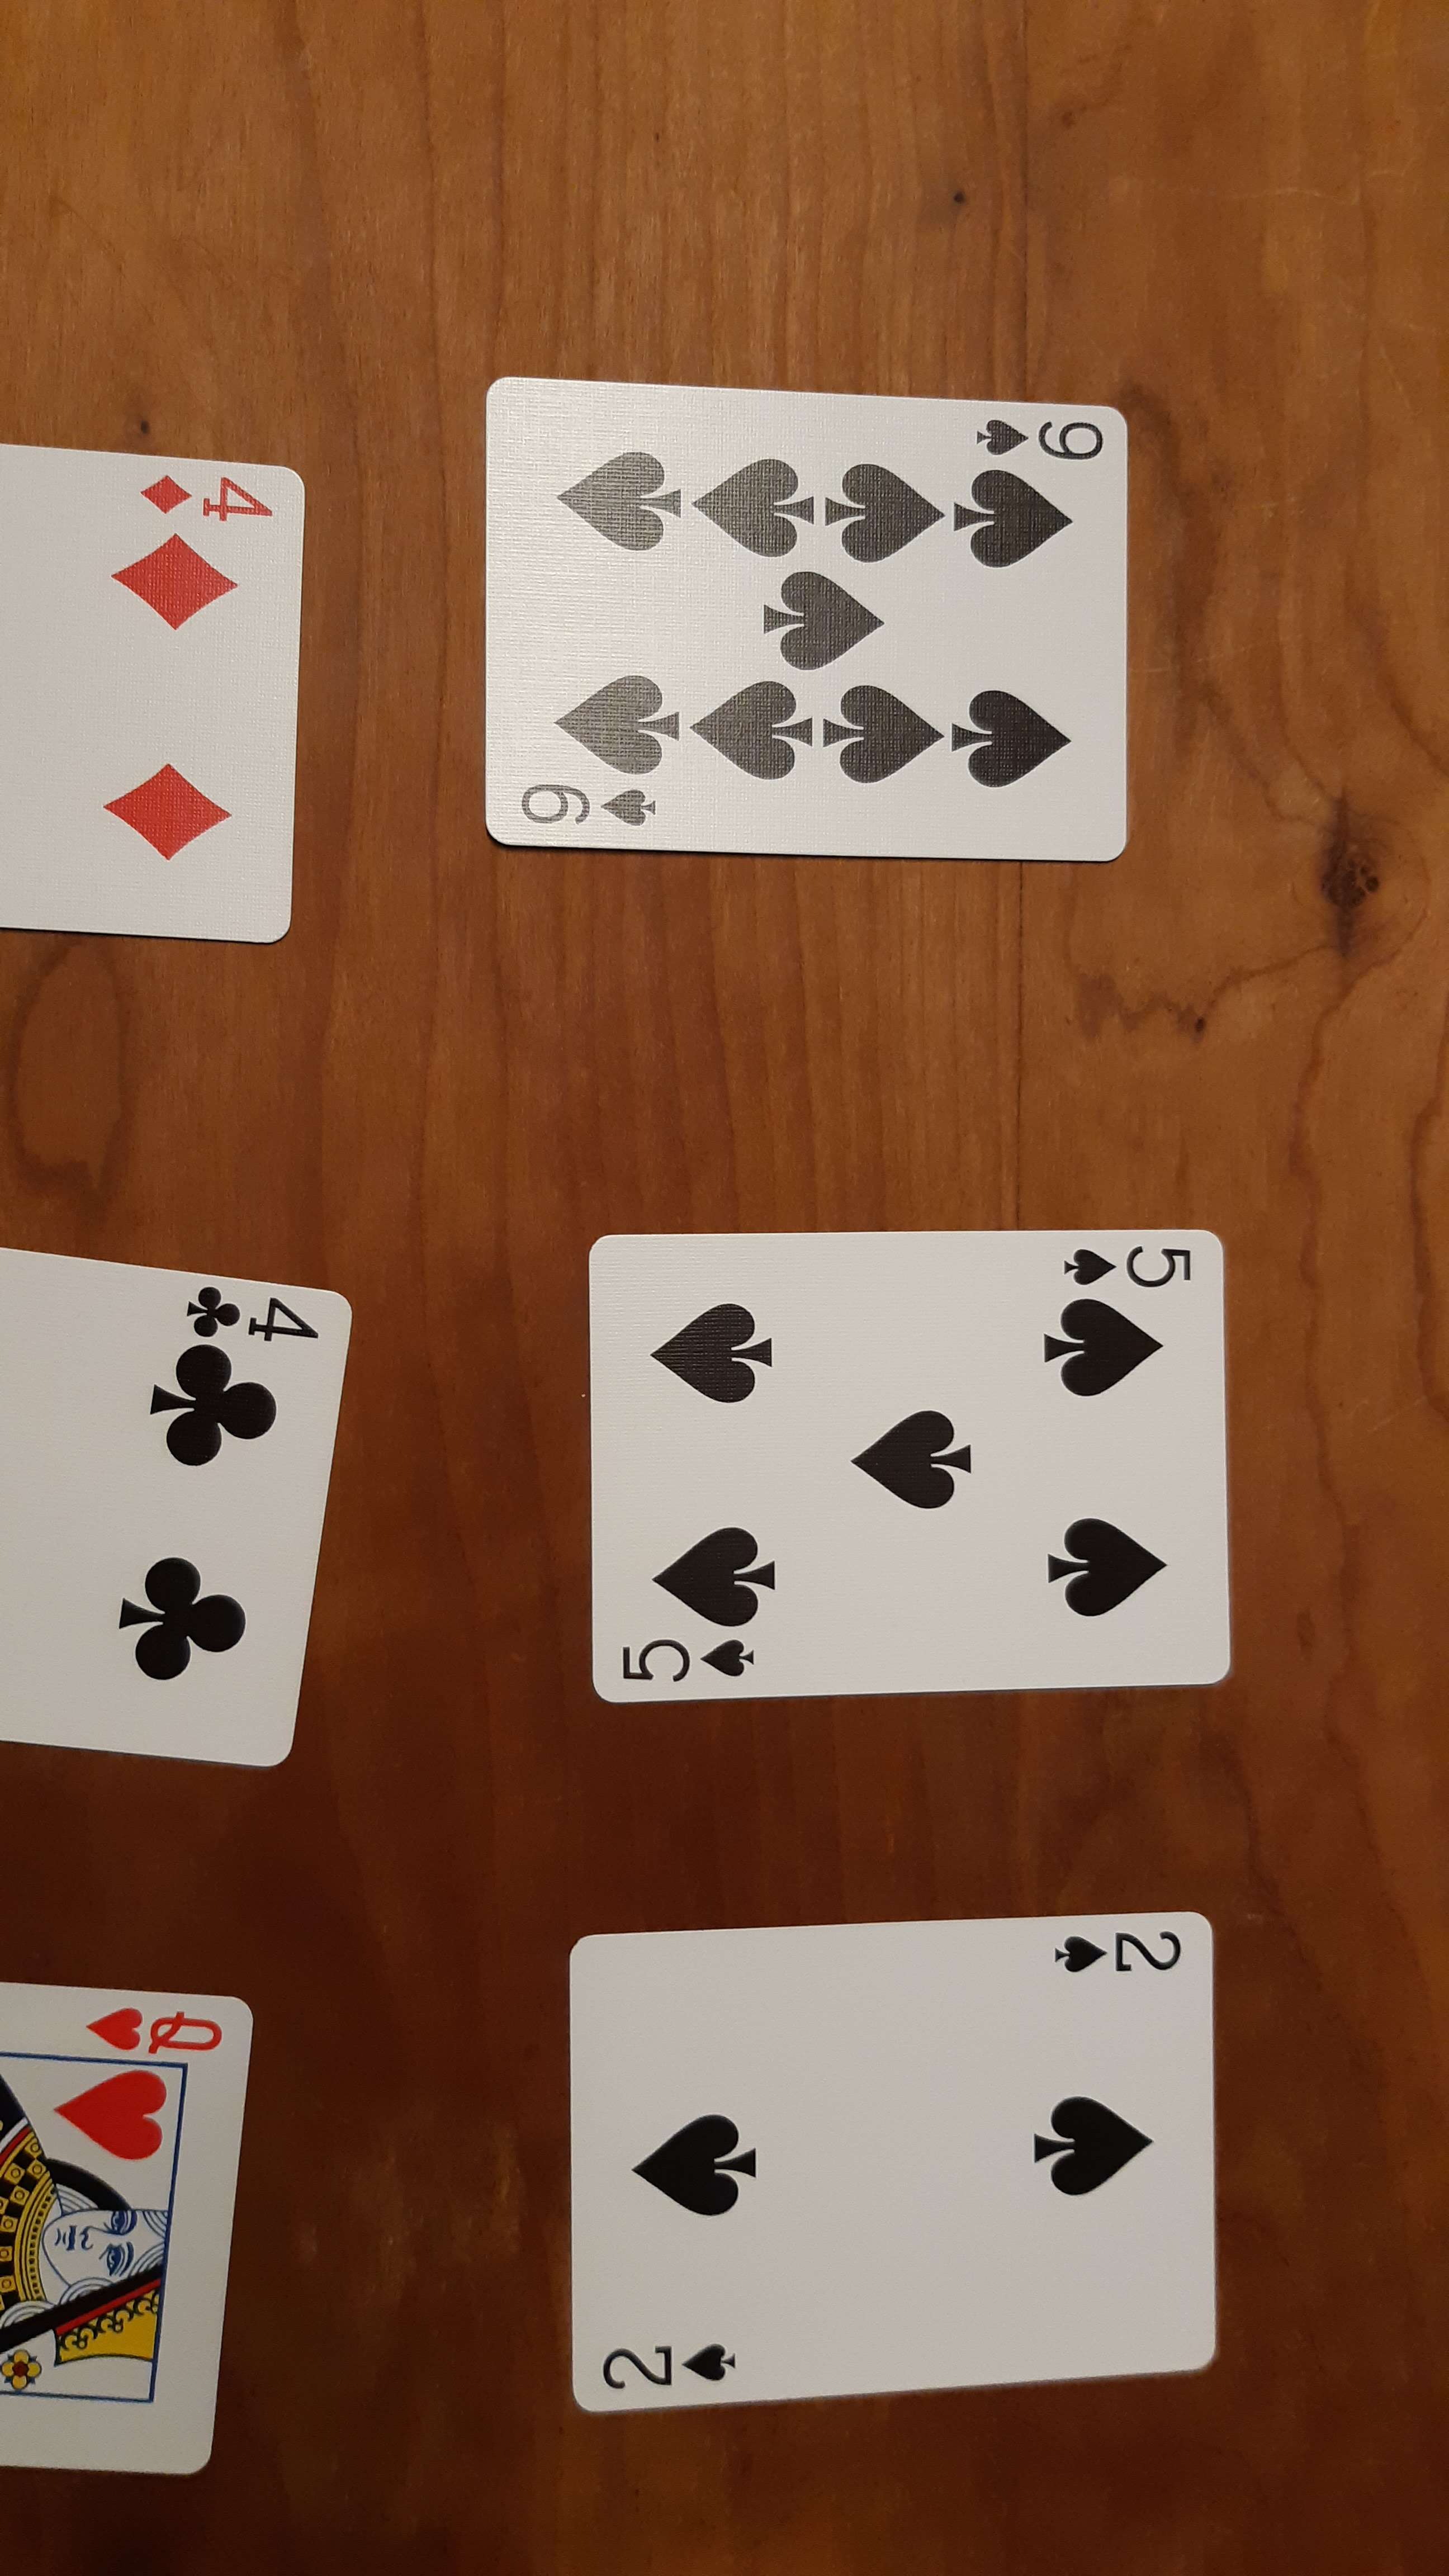Black_Club_4: (175, 1277, 326, 1355)
Black_Spade_2: (586, 2327, 745, 2410), (1051, 1916, 1194, 1987)
Black_Spade_5: (609, 1628, 775, 1693), (1051, 1238, 1200, 1299)
Black_Spade_9: (508, 405, 1115, 842)
Red_Diamond_4: (138, 465, 278, 529)
Red_Heart_Queen: (65, 1997, 232, 2059)
